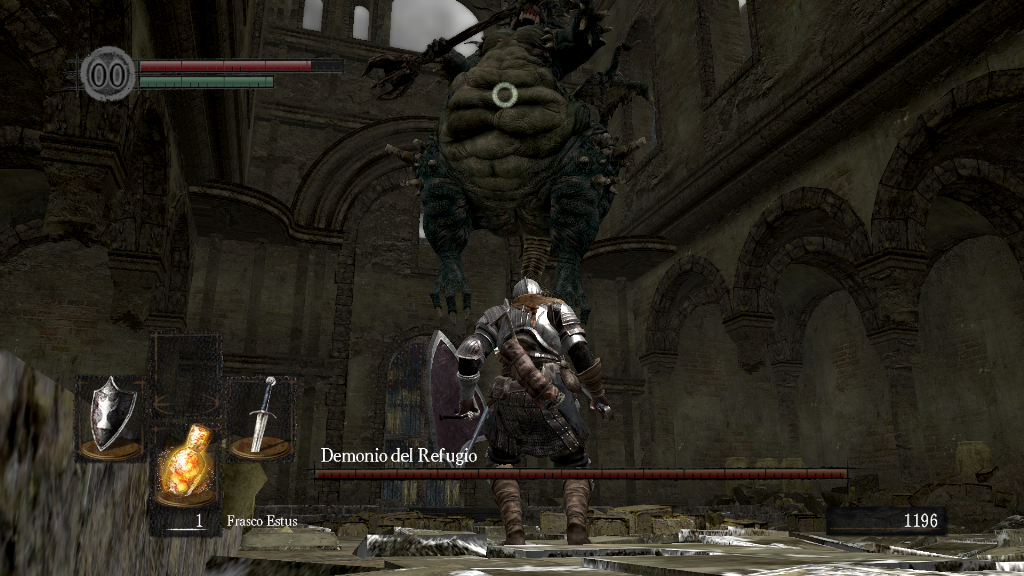asylumDemon: (362, 2, 656, 330)
bossHP: (314, 469, 847, 479)
health: (138, 58, 343, 71)
humanity: (80, 45, 136, 102)
player: (419, 274, 616, 548)
souls: (825, 506, 945, 536)
stamina: (138, 74, 274, 88)
